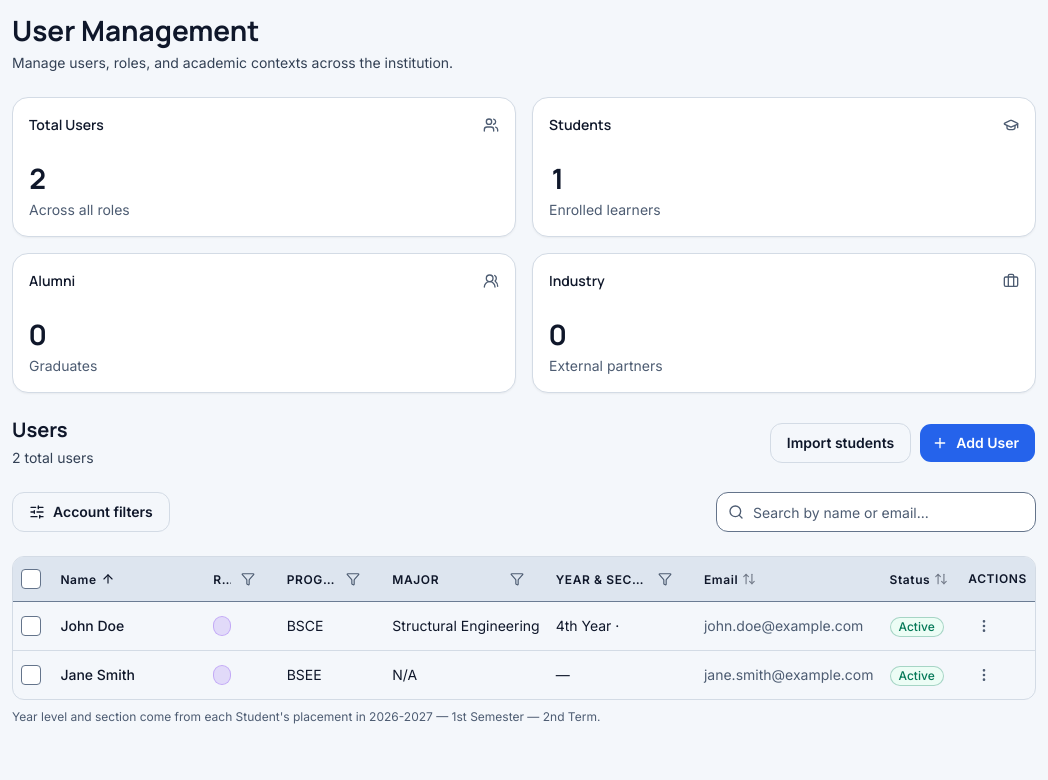
SecretaryUsersList › supports page-bound selection across desktop and mobile representations
The image size is (1048, 780).
Click the checkbox named "Select John Doe" at [31, 626], box [21,616,41,636]
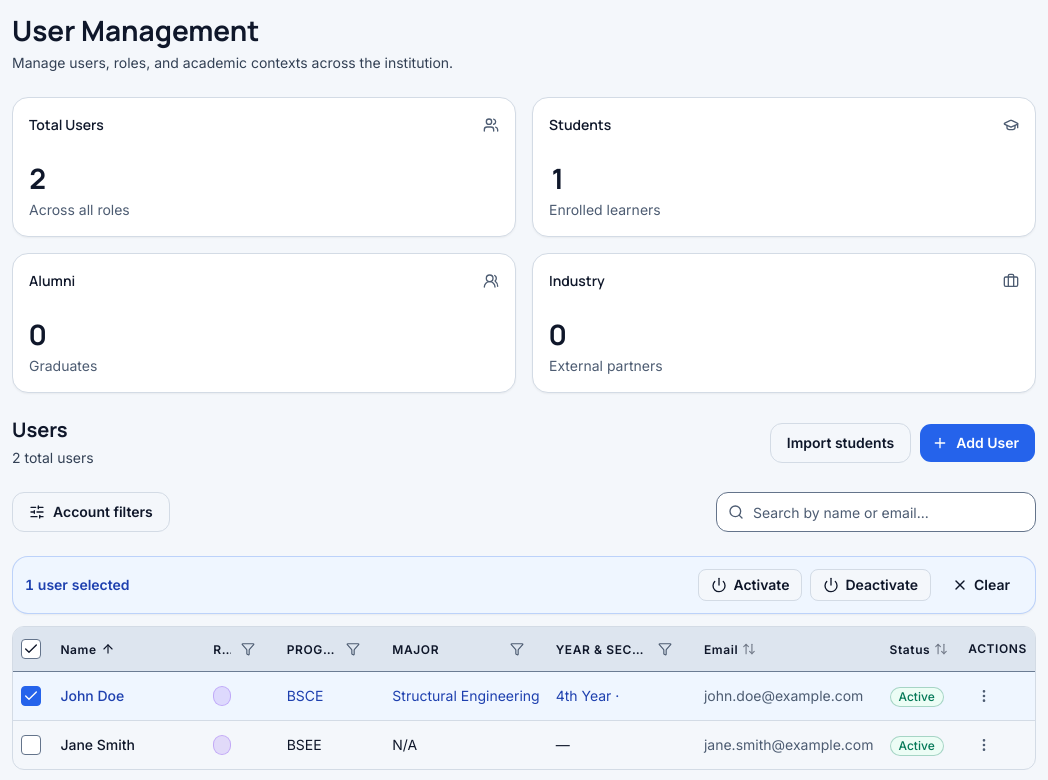
Now the text "1 user selected" is shown, box [25,575,130,595]
